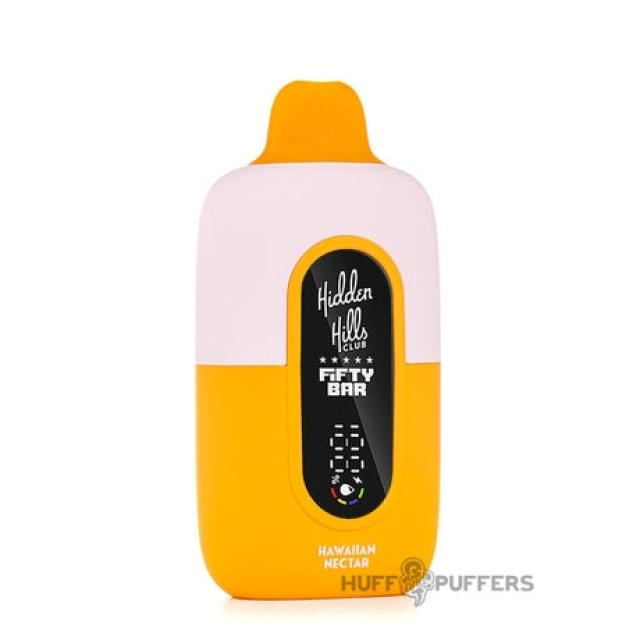Hazard: (194, 78, 442, 601)
